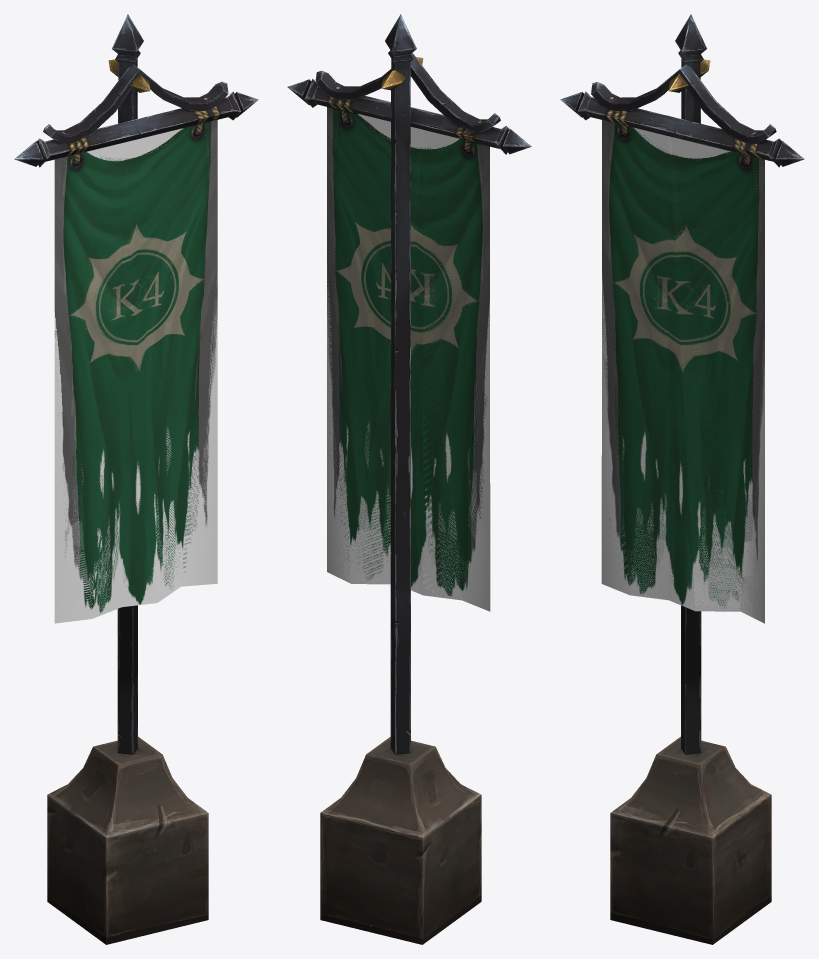
The model's file is Banner.fbx.
3 views of the same model, side by side, from view 1: azimuth 30°, elevation 25°; view 2: azimuth 150°, elevation 25°; view 3: azimuth 330°, elevation 25° (orthographic).
Parts seen in each view (by area): view 1: polySurface688; view 2: polySurface688; view 3: polySurface688.
Boxes of the visible parts, x1,y1,x2,y2 form: polySurface688: (14, 14, 258, 944); polySurface688: (287, 14, 531, 944); polySurface688: (560, 14, 804, 944).
Size of the model in its own units: 1.41 by 4.93 by 0.588.
